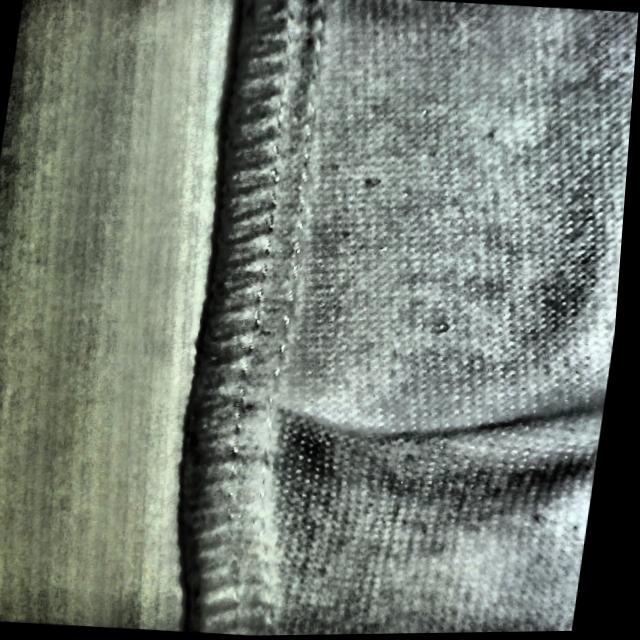seam: (182, 343, 543, 530)
